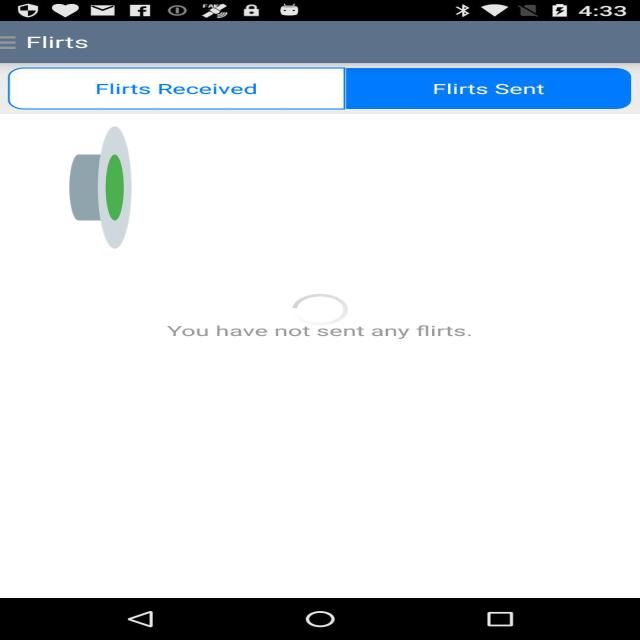social proof: (70, 74, 132, 301)
